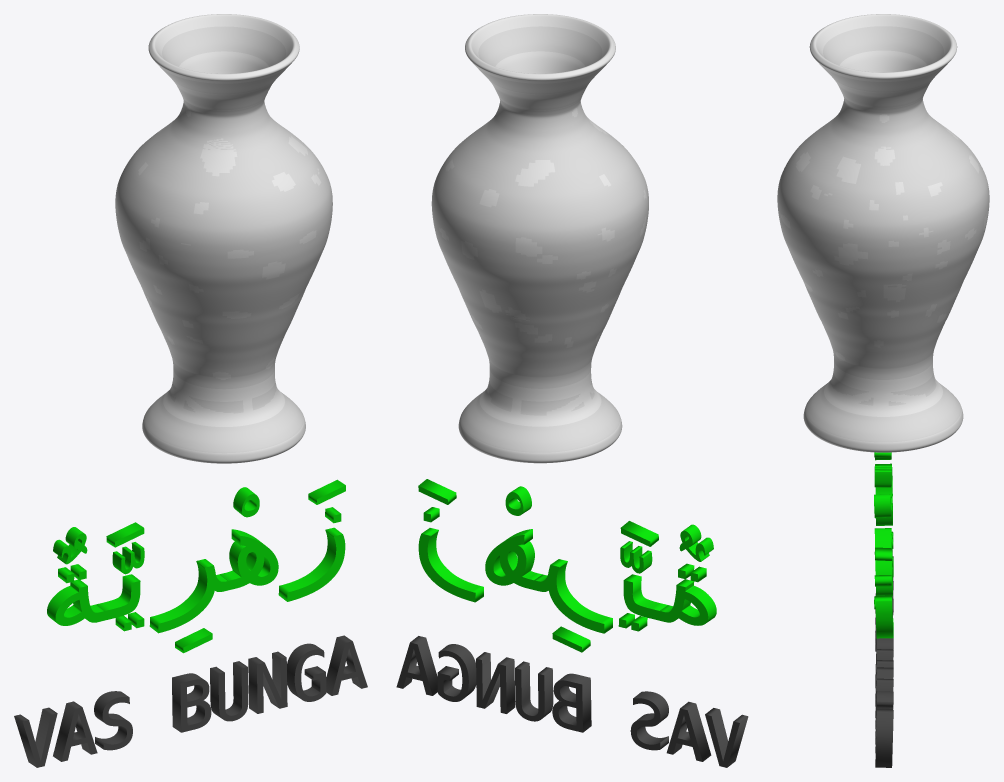
File: vase.fbx
3 renders of one model, left to right at view 1: azimuth 30°, elevation 25°; view 2: azimuth 150°, elevation 25°; view 3: azimuth 270°, elevation 25°, orthographic. The views are drawn at different scales.
Visible parts, largest first — view 1: Circle, Teks.006, Text, Teks.005, Teks.003, Teks.001; view 2: Circle, Teks.006, Text, Teks.005, Teks.003, Teks.001; view 3: Circle, Teks.006, Text, Teks.001, Teks.003.
Part boxes in pixels (x1,y1,x2,y2): Circle: (115, 14, 332, 463); Teks.006: (14, 635, 367, 767); Text: (47, 507, 345, 633); Teks.005: (53, 527, 87, 564); Teks.003: (112, 542, 144, 574); Teks.001: (233, 487, 259, 517); Circle: (431, 14, 648, 463); Teks.006: (396, 636, 748, 767); Text: (418, 507, 716, 633); Teks.005: (679, 524, 713, 561); Teks.003: (620, 541, 652, 573); Teks.001: (505, 486, 531, 515); Circle: (777, 14, 989, 452); Teks.006: (875, 556, 893, 767); Text: (874, 452, 893, 638); Teks.001: (874, 494, 891, 517); Teks.003: (874, 465, 891, 487).
Size of the model in its own units: 463 by 868 by 253.
